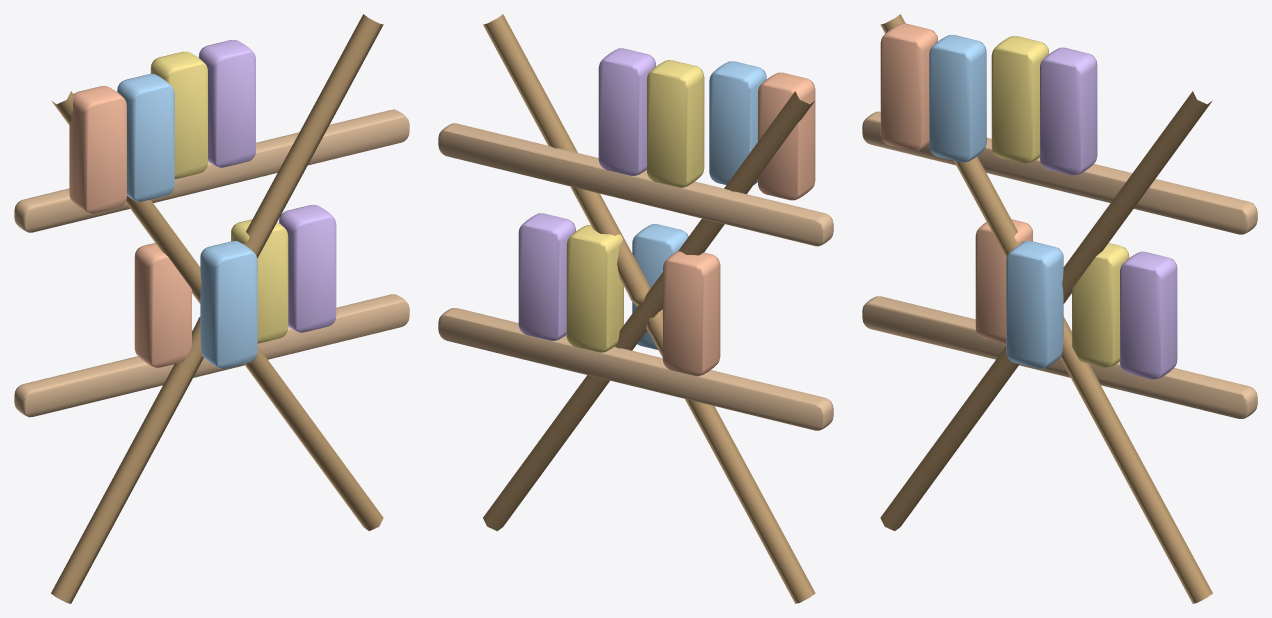
File: decor_4_classic.glb
The picture shows the model from 3 angles, left to right: view 1: azimuth 30°, elevation 25°; view 2: azimuth 150°, elevation 25°; view 3: azimuth 330°, elevation 25°; orthographic projection.
Parts seen in each view (by area): view 1: decor_4_classic; view 2: decor_4_classic; view 3: decor_4_classic.
Boxes of the visible parts, <box> form: decor_4_classic: <box>14,14,409,603</box>; decor_4_classic: <box>438,14,833,603</box>; decor_4_classic: <box>862,14,1257,603</box>.
Size of the model in its own units: 9.65 by 12.24 by 1.5.
